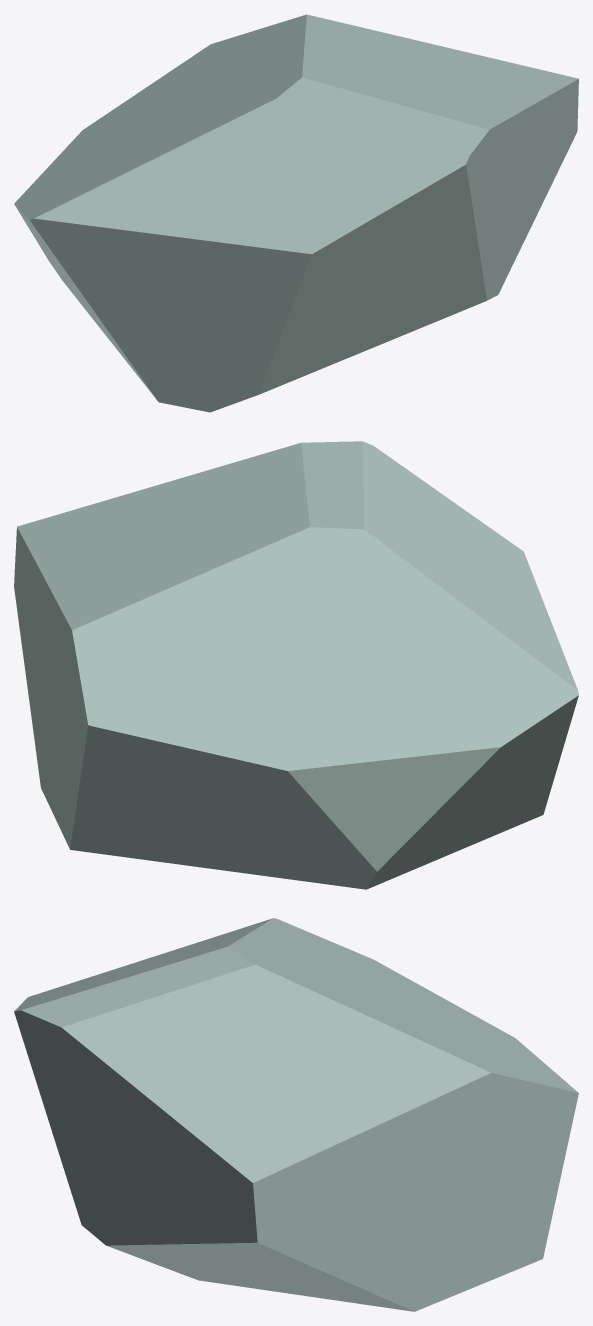
Rendered from MiniRock.fbx.
3 renders of one model, top to bottom at view 1: azimuth 30°, elevation 25°; view 2: azimuth 150°, elevation 25°; view 3: azimuth 270°, elevation 25°, orthographic. The views are drawn at different scales.
Visible parts, largest first — view 1: Cube.033; view 2: Cube.033; view 3: Cube.033.
Boxes of the visible parts, x1=… form: Cube.033: x1=14, y1=14, x2=578, y2=412; Cube.033: x1=14, y1=441, x2=578, y2=889; Cube.033: x1=14, y1=918, x2=578, y2=1311.
Size of the model in its own units: 867 by 393 by 728.
